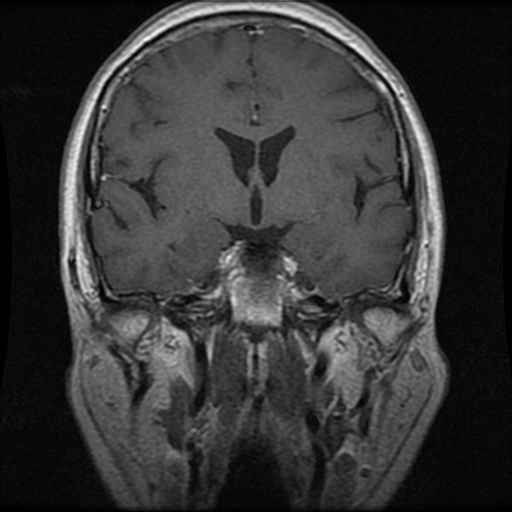pituitary: (219, 240, 245, 271)
